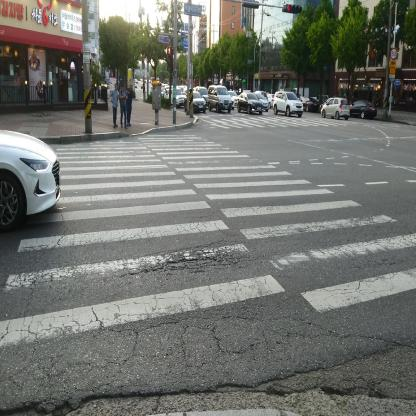Red: (167, 46, 172, 71)
